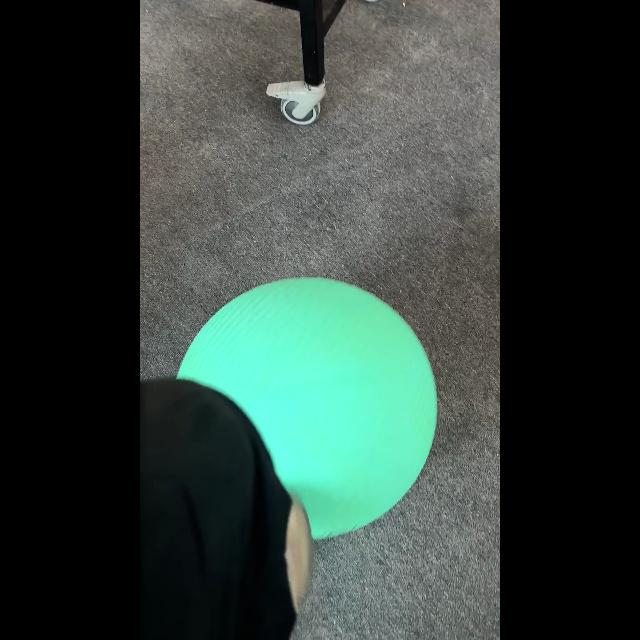ALGAE: (175, 276, 438, 540)
